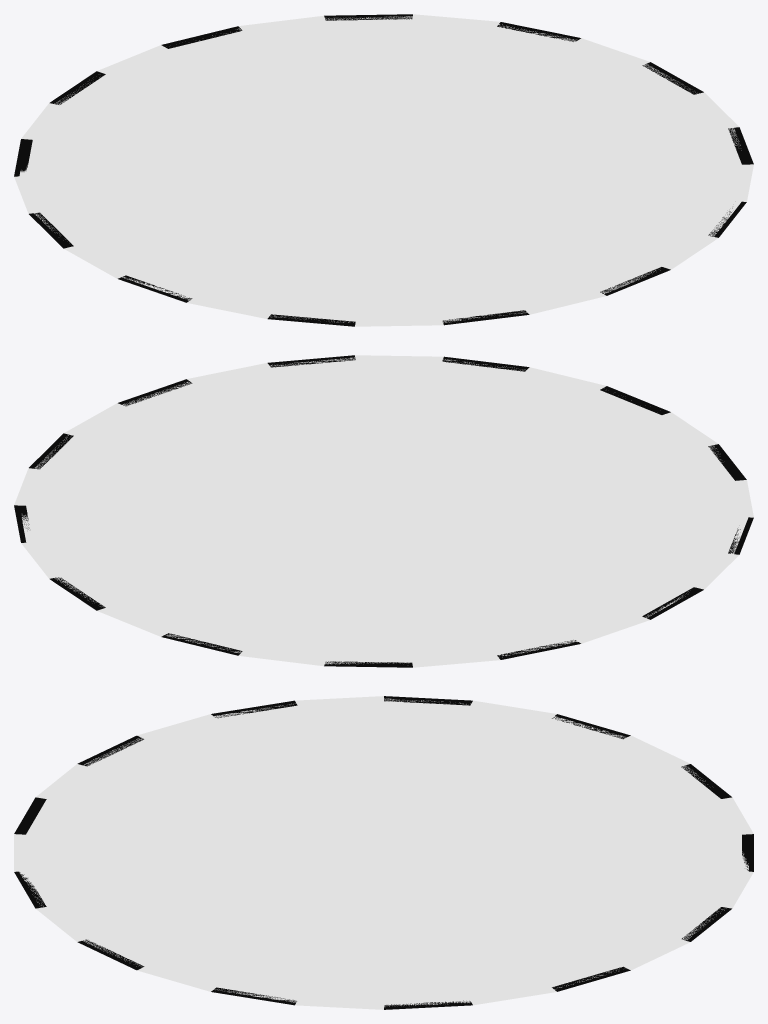
3 views of the same model, one above another, from view 1: azimuth 30°, elevation 25°; view 2: azimuth 150°, elevation 25°; view 3: azimuth 270°, elevation 25° (orthographic).
Parts seen in each view (by area): view 1: fill, tube; view 2: fill, tube; view 3: fill, tube.
Boxes of the visible parts, x1,y1,x2,y2 form: fill: (19,16,747,324); tube: (14,14,753,326); fill: (22,357,748,664); tube: (14,355,753,667); fill: (19,698,748,1007); tube: (14,696,753,1009).
Bounding box in the file's own units: 477 × 0 × 475.
1 material, 1 textured.
